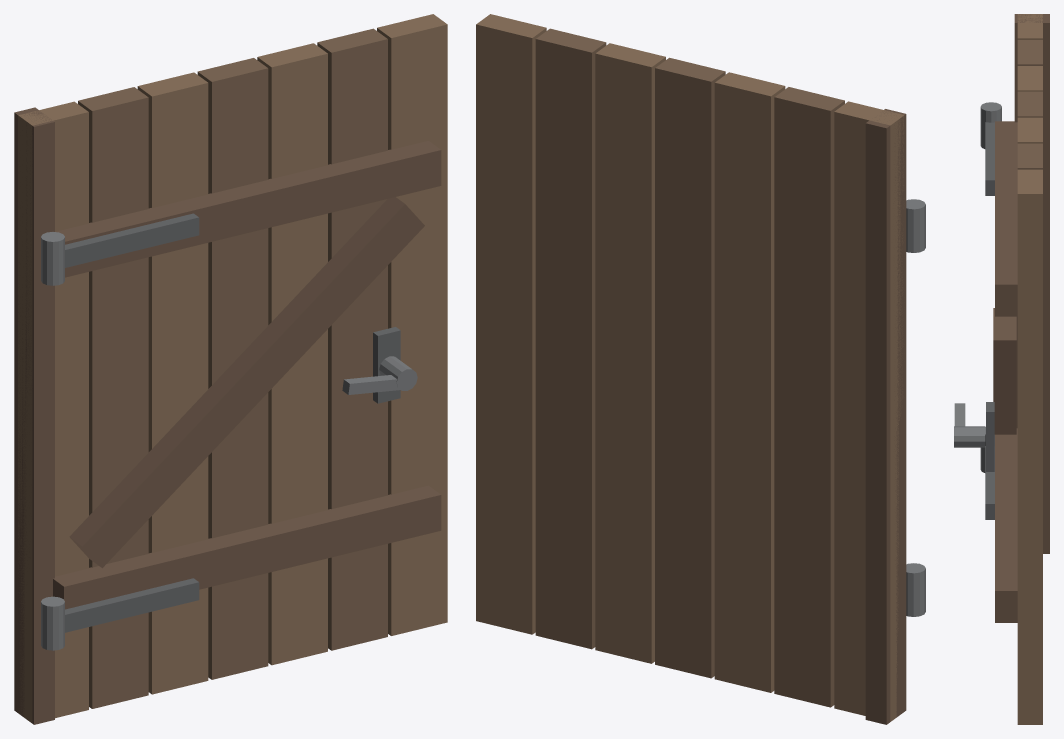
File: doorLeaf083-0958a43c55e7.glb
3 renders of one model, left to right at view 1: azimuth 30°, elevation 25°; view 2: azimuth 150°, elevation 25°; view 3: azimuth 270°, elevation 25°, orthographic. The views are drawn at different scales.
Parts seen in each view (by area): view 1: plank_6, plank_3, plank_4, plank_2, plank_1, plank_5, plank_0, diag_brace, hinge_edge, brace_0.62, brace_2.35, iron_strap_0.55 (+6 smaller); view 2: plank_2, plank_5, plank_1, plank_4, plank_6, plank_3, plank_0, hinge_edge, hinge_pin_2.38, hinge_pin_0.55; view 3: plank_6, hinge_edge, brace_2.35, brace_0.62, diag_brace, iron_strap_2.38, handle_knob, plank_3, plank_4, plank_5, plank_1, plank_2 (+5 smaller).
Boxes of the visible parts, left/top/right/bottom form: plank_6: left=377, top=14, right=447, bottom=635; plank_3: left=197, top=58, right=268, bottom=679; plank_4: left=257, top=43, right=327, bottom=665; plank_2: left=137, top=72, right=208, bottom=694; plank_1: left=78, top=87, right=148, bottom=708; plank_5: left=317, top=28, right=387, bottom=650; plank_0: left=18, top=101, right=88, bottom=723; diag_brace: left=69, top=197, right=424, bottom=568; hinge_edge: left=14, top=107, right=54, bottom=724; brace_0.62: left=53, top=485, right=441, bottom=609; brace_2.35: left=55, top=141, right=441, bottom=277; iron_strap_0.55: left=65, top=578, right=199, bottom=632; plank_2: left=714, top=72, right=785, bottom=692; plank_5: left=535, top=28, right=606, bottom=649; plank_1: left=774, top=87, right=844, bottom=707; plank_4: left=595, top=43, right=665, bottom=663; plank_6: left=476, top=14, right=546, bottom=634; plank_3: left=655, top=57, right=725, bottom=678; plank_0: left=834, top=101, right=904, bottom=721; hinge_edge: left=865, top=109, right=906, bottom=724; hinge_pin_2.38: left=906, top=199, right=925, bottom=252; hinge_pin_0.55: left=906, top=563, right=925, bottom=616; plank_6: left=1017, top=169, right=1042, bottom=724; hinge_edge: left=1014, top=14, right=1049, bottom=553; brace_2.35: left=995, top=121, right=1017, bottom=316; brace_0.62: left=995, top=428, right=1017, bottom=622; diag_brace: left=993, top=308, right=1016, bottom=434; iron_strap_2.38: left=985, top=122, right=994, bottom=195; handle_knob: left=954, top=426, right=985, bottom=447; plank_3: left=1017, top=91, right=1042, bottom=117; plank_4: left=1017, top=117, right=1042, bottom=143; plank_5: left=1017, top=143, right=1042, bottom=169; plank_1: left=1017, top=40, right=1042, bottom=65; plank_2: left=1017, top=66, right=1042, bottom=91.
Bounding box in the file's own units: 2.21 × 3 × 0.49.
